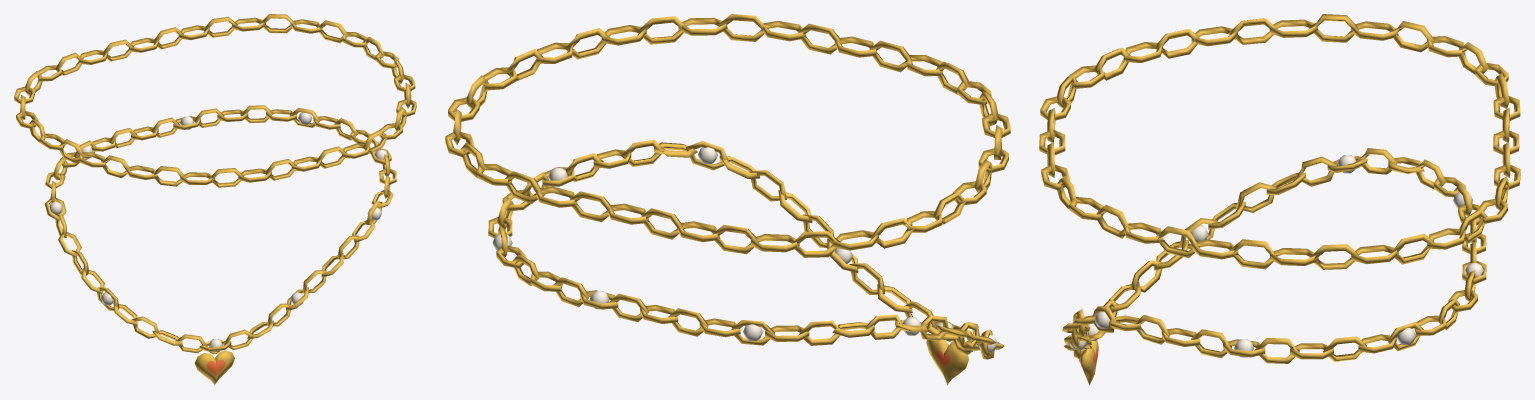
The model's file is chain_belt.glb.
The picture shows the model from 3 angles, left to right: view 1: azimuth 30°, elevation 25°; view 2: azimuth 150°, elevation 25°; view 3: azimuth 270°, elevation 25°; orthographic projection. The views are drawn at different scales.
Parts seen in each view (by area): view 1: chain_belt; view 2: chain_belt; view 3: chain_belt.
Boxes of the visible parts, x1,y1,x2,y2 form: chain_belt: [14, 14, 416, 385]; chain_belt: [445, 14, 1010, 385]; chain_belt: [1039, 14, 1520, 385].
Size of the model in its own units: 0.191 by 0.115 by 0.1618.
